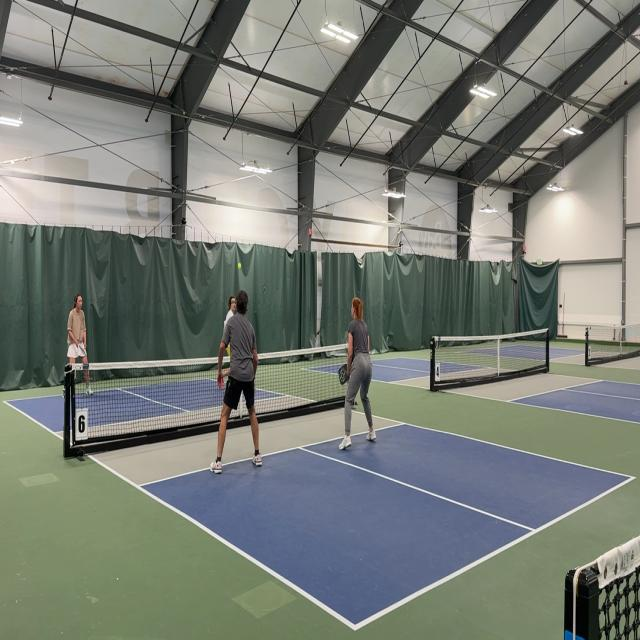ball: (237, 262, 242, 269)
